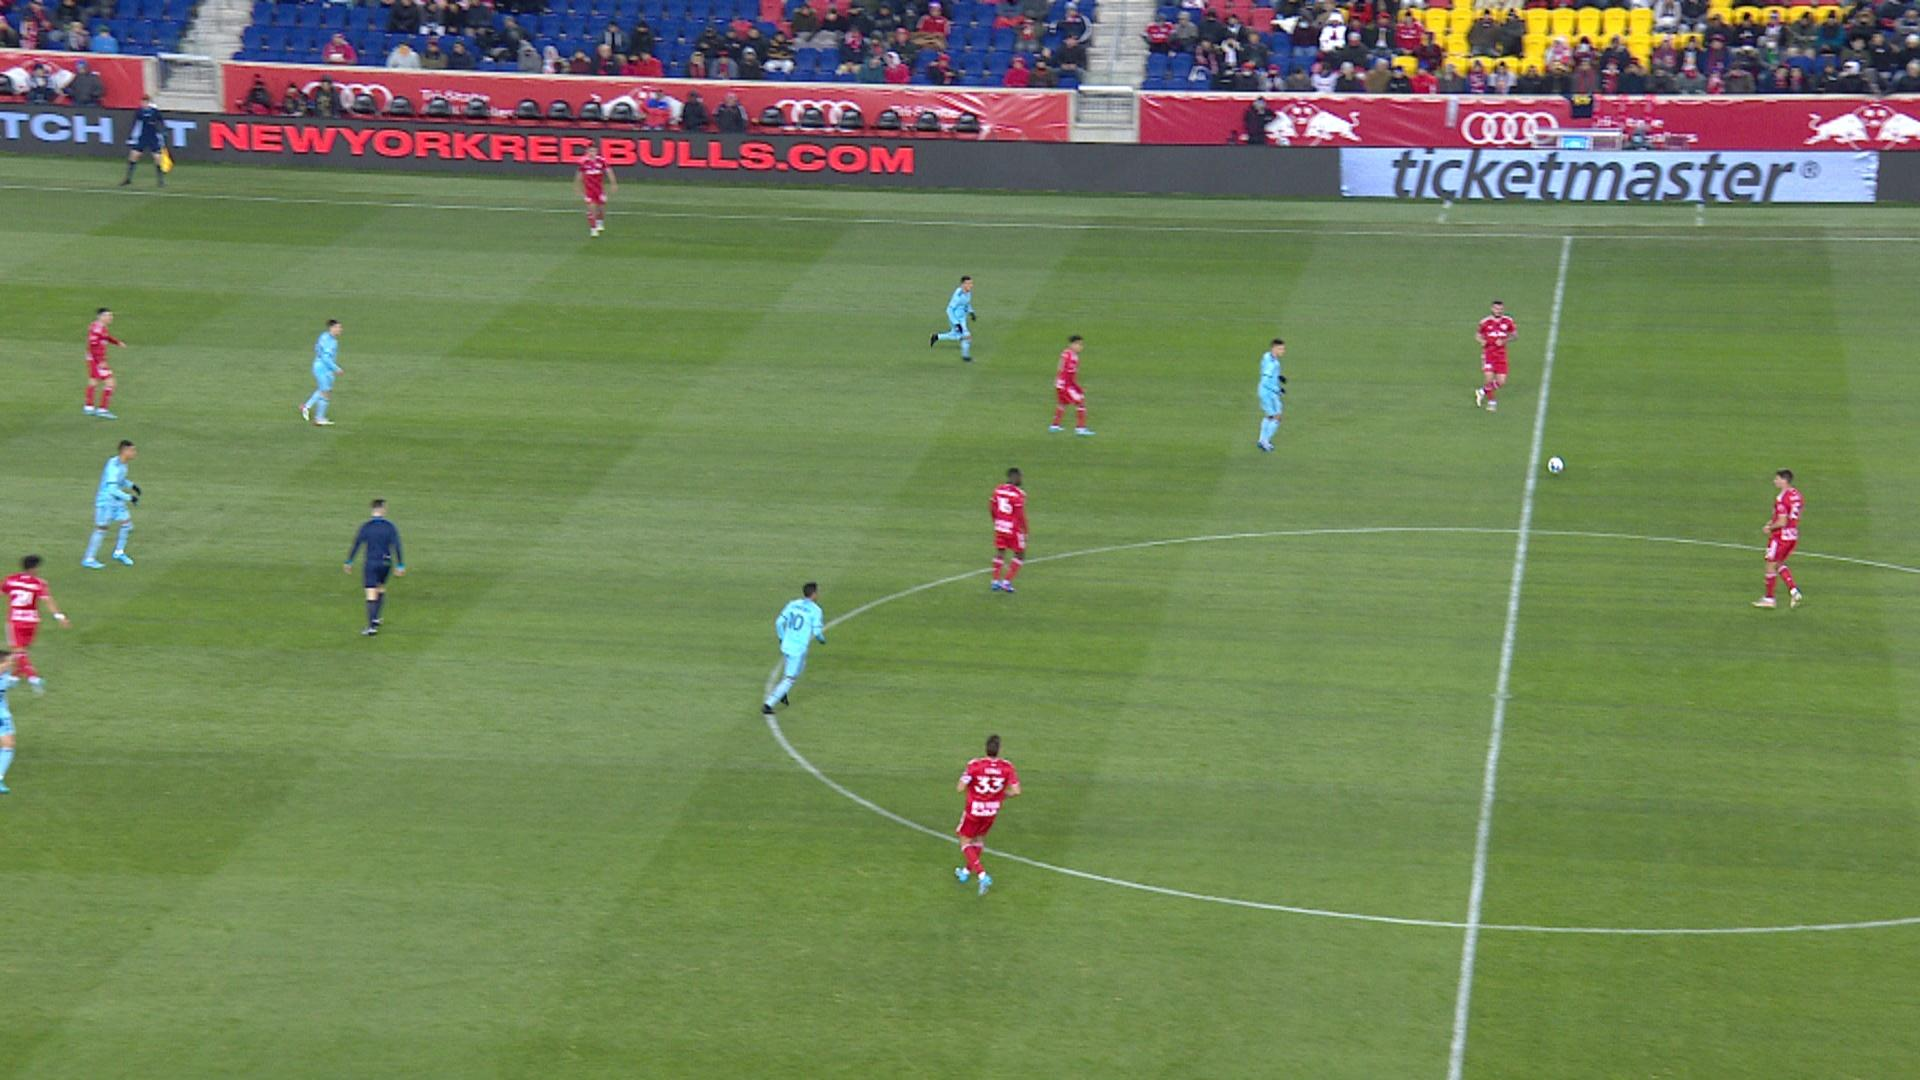football: (1545, 455, 1565, 476)
